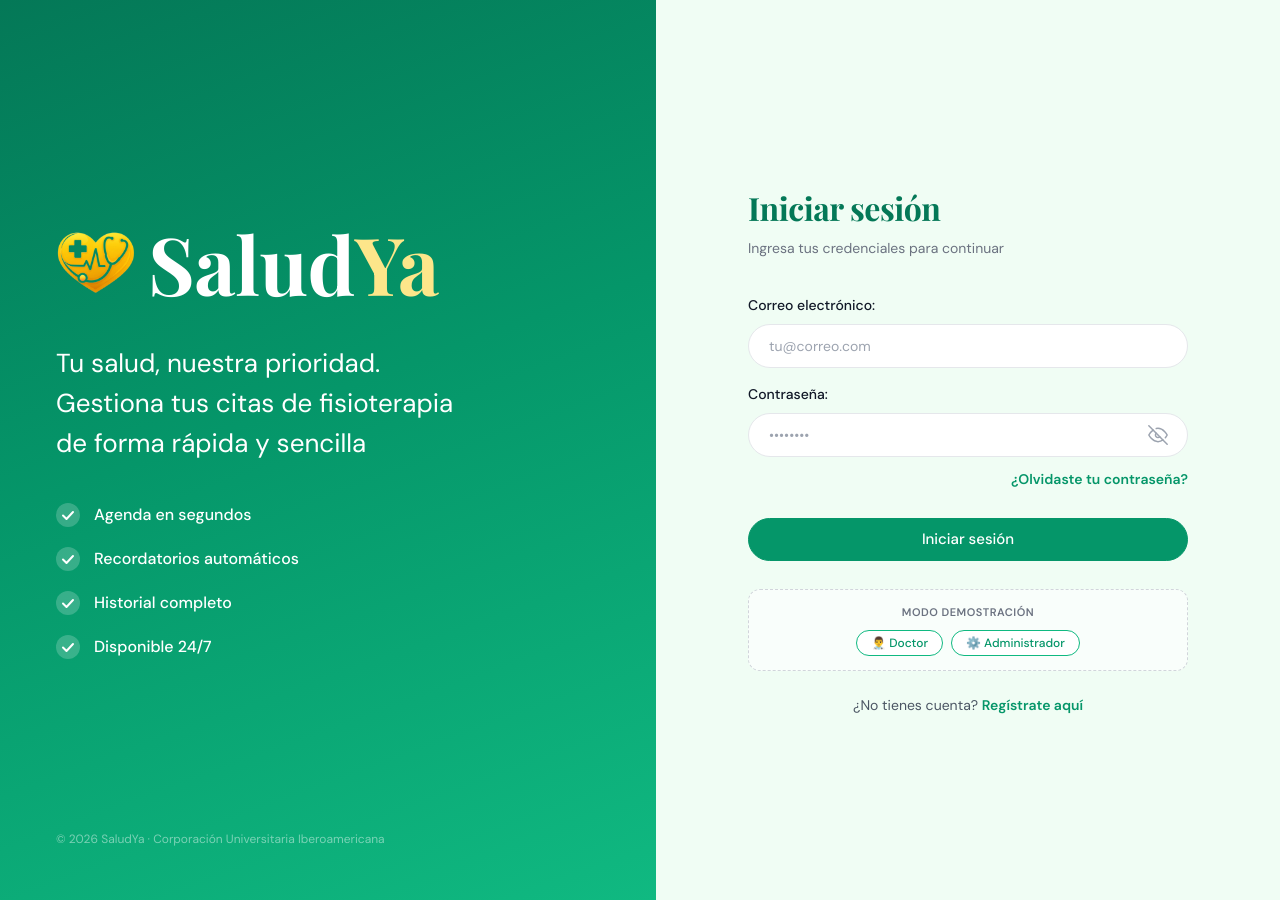
Test: <App /> — Routing › al hacer clic en "Doctor", muestra el dashboard del doctor
The image size is (1280, 900).
Click the button "👨‍⚕️ Doctor" at (900, 643), box [856,630,943,656]
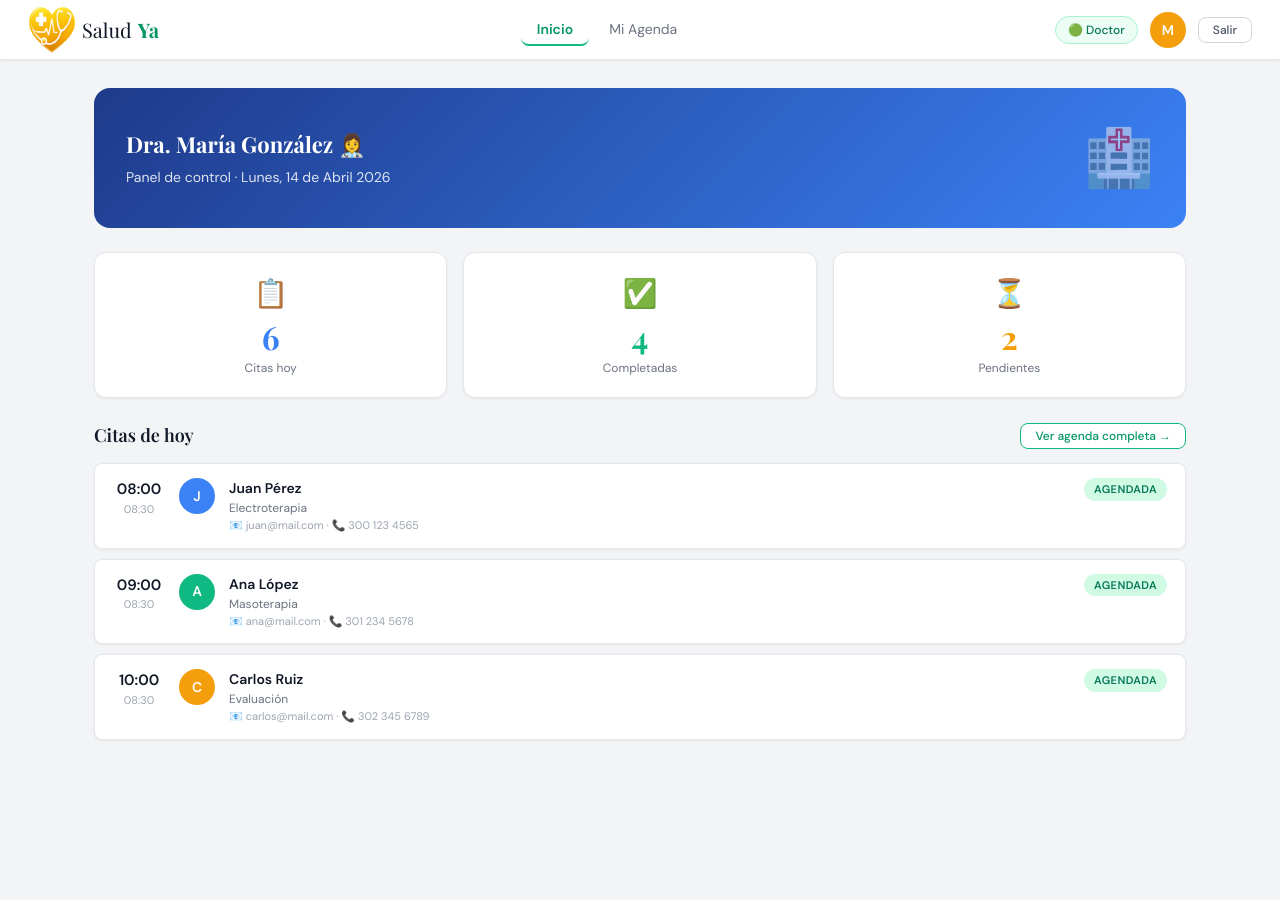
Check: the heading "Dra. María González 👩‍⚕️" is shown, box [126,128,390,161]
Check: the text "Panel de control · Lunes, 14 de Abril 2026" is shown, box [126,167,390,188]
